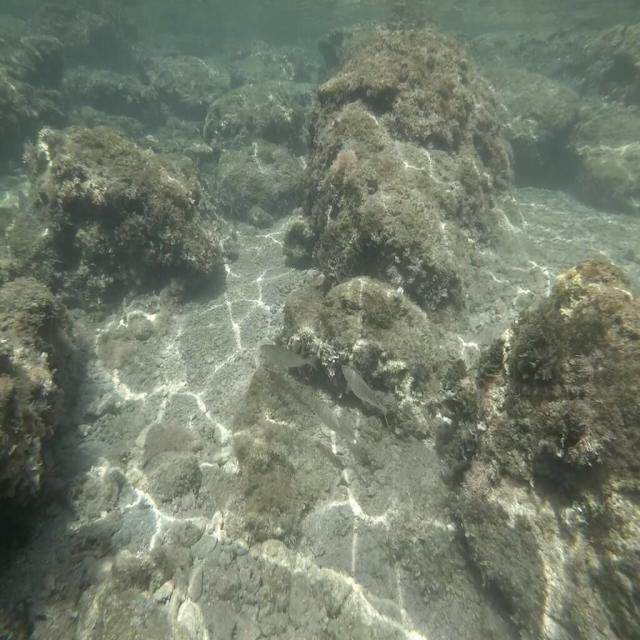Sokar Baligi: (340, 360, 399, 430), (256, 331, 322, 371)
